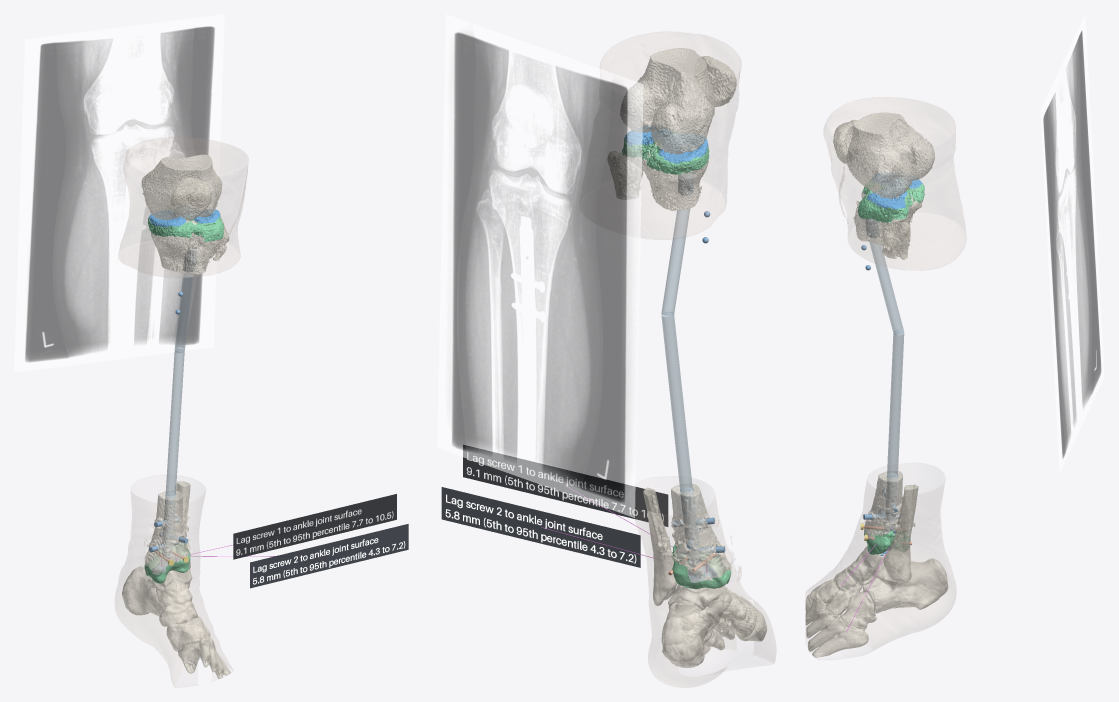
3 views of the same model, side by side, from view 1: azimuth 30°, elevation 25°; view 2: azimuth 150°, elevation 25°; view 3: azimuth 270°, elevation 25° (orthographic). The views are drawn at different scales.
Visible parts, largest first — view 1: radiograph, skin, implant_8, tibia, implant_16, tarsal, femur, nail_modelled, patella, metatarsal, capsule_band_knee, nail (+3 smaller); view 2: radiograph, skin, femur, implant_17, implant_9, tibia, tarsal, nail_modelled, fibula, articular_surface_knee, capsule_band_knee, nail (+3 smaller); view 3: radiograph, skin, tarsal, femur, tibia, fibula, nail_modelled, metatarsal, capsule_band_knee, articular_surface_knee, nail, capsule_band_ankle (+1 smaller).
Part boxes in pixels (x1,y1,x2,y2): radiograph: (14,14,224,372); skin: (115,137,248,686); implant_8: (233,494,396,559); tibia: (145,216,222,583); implant_16: (250,524,408,588); tarsal: (122,564,210,651); femur: (141,154,222,219); nail_modelled: (165,273,193,496); patella: (170,177,212,220); metatarsal: (178,634,230,678); capsule_band_knee: (148,214,223,242); nail: (162,248,196,558); radiograph: (437,14,643,517); skin: (600,32,775,687); femur: (620,48,715,154); implant_17: (441,487,640,567); implant_9: (463,445,668,526); tibia: (622,138,731,588); tarsal: (661,567,756,667); nail_modelled: (661,208,692,492); fibula: (607,151,677,605); articular_surface_knee: (624,126,708,163); capsule_band_knee: (622,132,709,174); nail: (678,171,700,567); radiograph: (1040,15,1104,472); skin: (806,97,966,650); tarsal: (810,546,948,629); femur: (846,112,935,198); tibia: (853,188,923,554); fibula: (882,221,918,582); nail_modelled: (869,242,904,477); metatarsal: (805,593,868,657); capsule_band_knee: (858,180,924,223); articular_surface_knee: (867,172,922,209); nail: (866,219,897,533); capsule_band_ankle: (864,530,909,554).
Size of the model in its own units: 0.3092 by 0.6044 by 0.272.
Materials: 15 (3 with a texture image).
